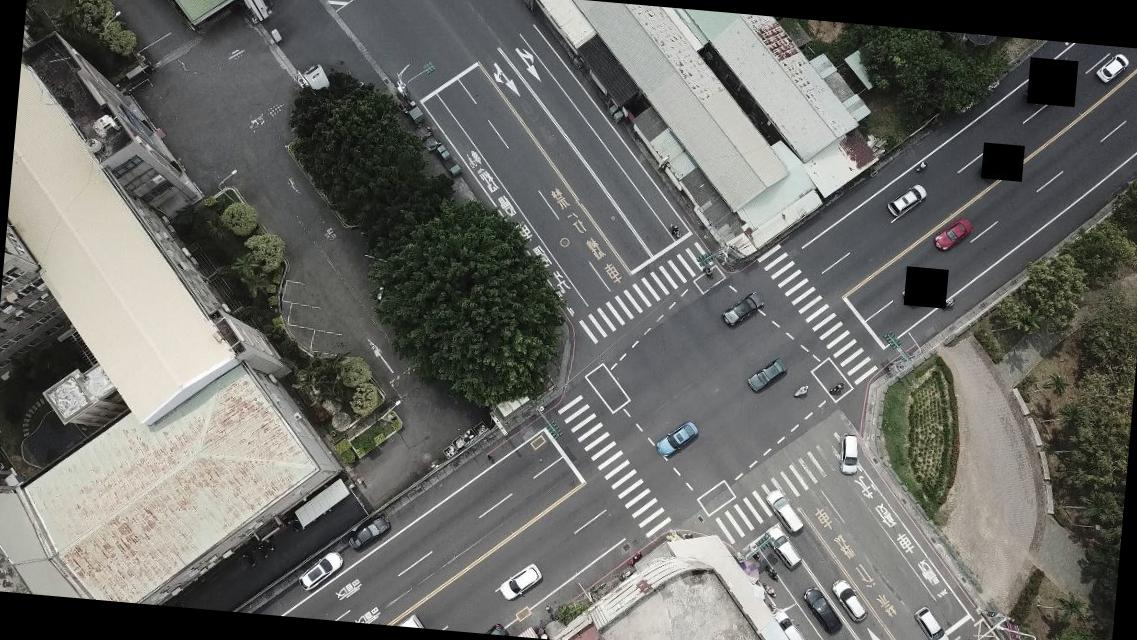vehicle: (761, 486, 811, 536), (297, 548, 345, 596), (799, 586, 844, 636), (828, 576, 870, 626), (498, 561, 544, 605), (345, 510, 391, 554), (760, 524, 803, 571), (654, 418, 699, 462), (720, 286, 765, 330), (886, 180, 930, 220), (746, 356, 788, 397), (765, 607, 817, 639), (932, 216, 974, 254), (910, 605, 954, 639), (836, 432, 862, 477), (1096, 51, 1130, 85)
